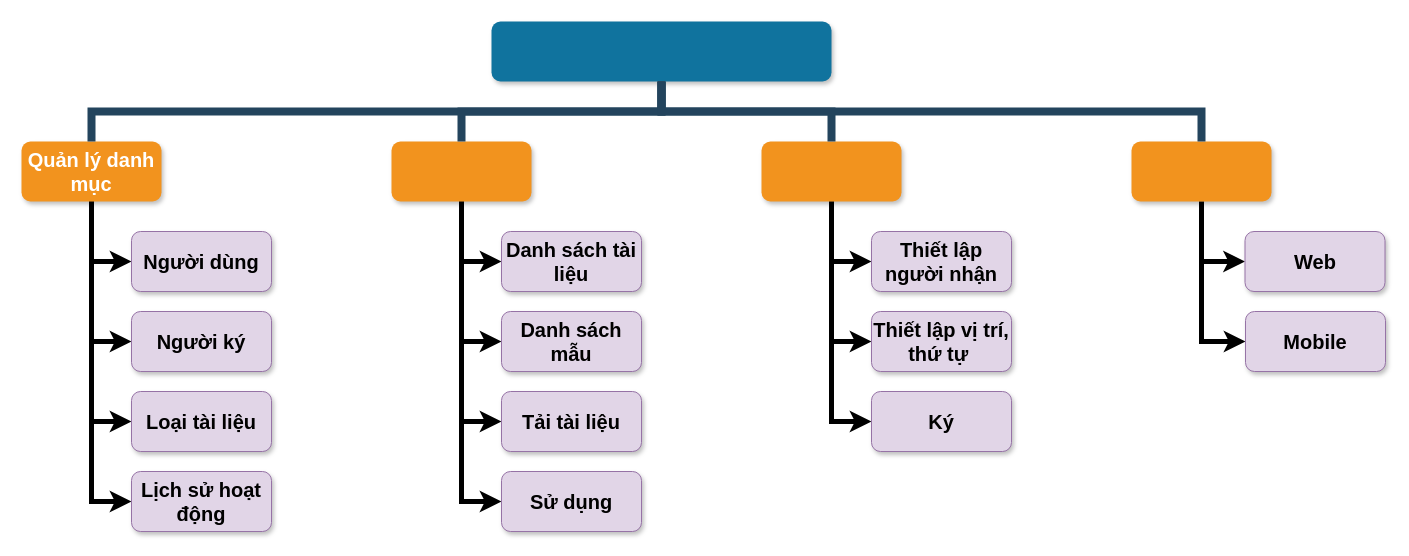
The diagram is 1409 pixels wide and 556 high, and some of its shapes have lost their labels. The shapes that lost their labels are listed below. From the top down, each one's centre as x and y in pixels, then its label:
At (x=662, y=52): "WESIGN".
At (x=462, y=172): "Quản lý tài liệu".
At (x=832, y=172): "Ký tài liệu".
At (x=1202, y=172): "Nền tảng".
